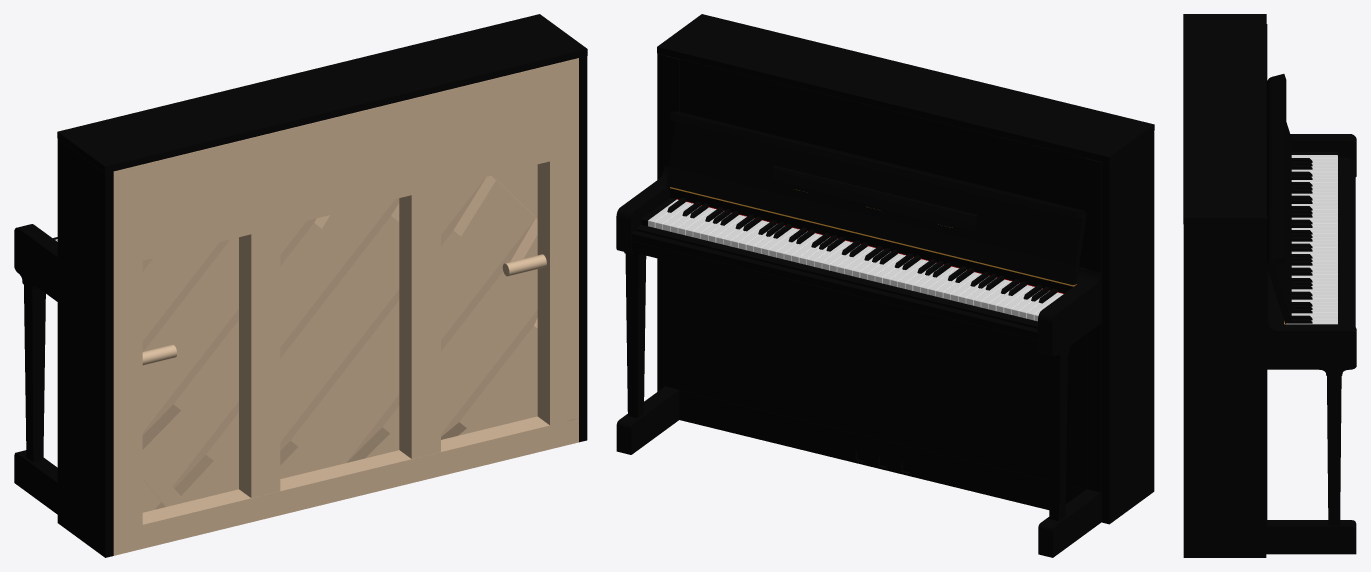
File: Piano.fbx
3 views of the same model, side by side, from view 1: azimuth 30°, elevation 25°; view 2: azimuth 150°, elevation 25°; view 3: azimuth 270°, elevation 25° (orthographic). The views are drawn at different scales.
Visible parts, largest first — view 1: Soundboard, Panel_Back_Top, Top, R_Side.001, Panel_Back_Bottom, Panel_Back_Column.003, Panel_Back_Column.002, Panel_Back_Column.001, Panel_Back_Column.004, Rib.004, Rib.003, Rib.005 (+9 smaller); view 2: Front_Bottom_Panel, Flatboard, Top, Front_Upper_Panel, R_Side.001, L_Side.003, Flatboard.002, Flatboard.001, Score_Holder, L_Side.010, L_Side.014, L_Side.016 (+10 smaller); view 3: L_Side, Top, Flatboard, L_Side.006, L_Side.002, Flatboard.002, L_Side.008, L_Side.014, L_Side.010, L_Side.004, Left_Top_Panel, Front_Bottom_Panel.
Boxes of the visible parts, x1,y1,x2,y2 form: Soundboard: (142,164,537,512); Panel_Back_Top: (113,58,578,267); Top: (57,14,587,173); R_Side.001: (57,139,113,557); Panel_Back_Bottom: (113,416,578,555); Panel_Back_Column.003: (239,227,280,497); Panel_Back_Column.002: (399,188,440,458); Panel_Back_Column.001: (537,154,578,425); Panel_Back_Column.004: (113,261,142,531); Rib.004: (155,198,399,509); Rib.003: (280,176,495,465); Rib.005: (142,215,329,449); Front_Bottom_Panel: (679,264,1086,489); Flatboard: (666,111,1086,284); Top: (657,14,1154,163); Front_Upper_Panel: (680,59,1086,268); R_Side.001: (1101,131,1154,524); L_Side.003: (679,390,1085,509); Flatboard.002: (631,224,1037,339); Flatboard.001: (631,241,1037,350); Score_Holder: (770,165,977,232); L_Side.010: (670,188,1085,293); L_Side.014: (1038,268,1100,354); L_Side.016: (1047,354,1067,520); L_Side: (1183,224,1266,557); Top: (1183,14,1266,224); Flatboard: (1267,74,1291,323); L_Side.006: (1267,316,1356,365); L_Side.002: (1266,520,1356,554); Flatboard.002: (1338,157,1355,326); L_Side.008: (1327,376,1341,525); L_Side.014: (1290,134,1356,175); L_Side.010: (1266,134,1283,324); L_Side.004: (1267,366,1356,375); Left_Top_Panel: (1266,214,1267,369); Front_Bottom_Panel: (1266,370,1267,519).
Bounding box in the file's own units: 1168 × 905 × 419.
